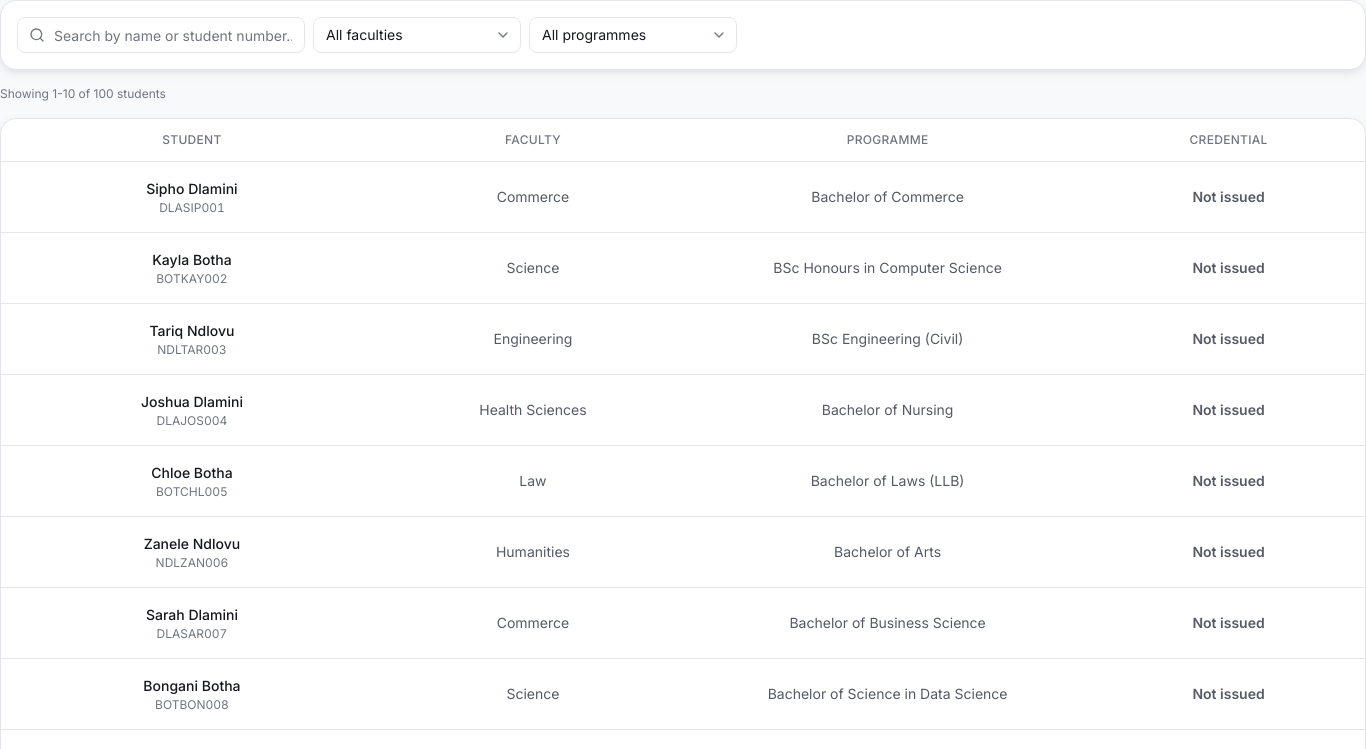
Scenario: IndividualIssuanceSearch › filters by full name and links to individual issuance detail
In the field with placeholder "Search by name or student number...": (161, 35) 17,17 -> 305,53, type "Joshua Wood"
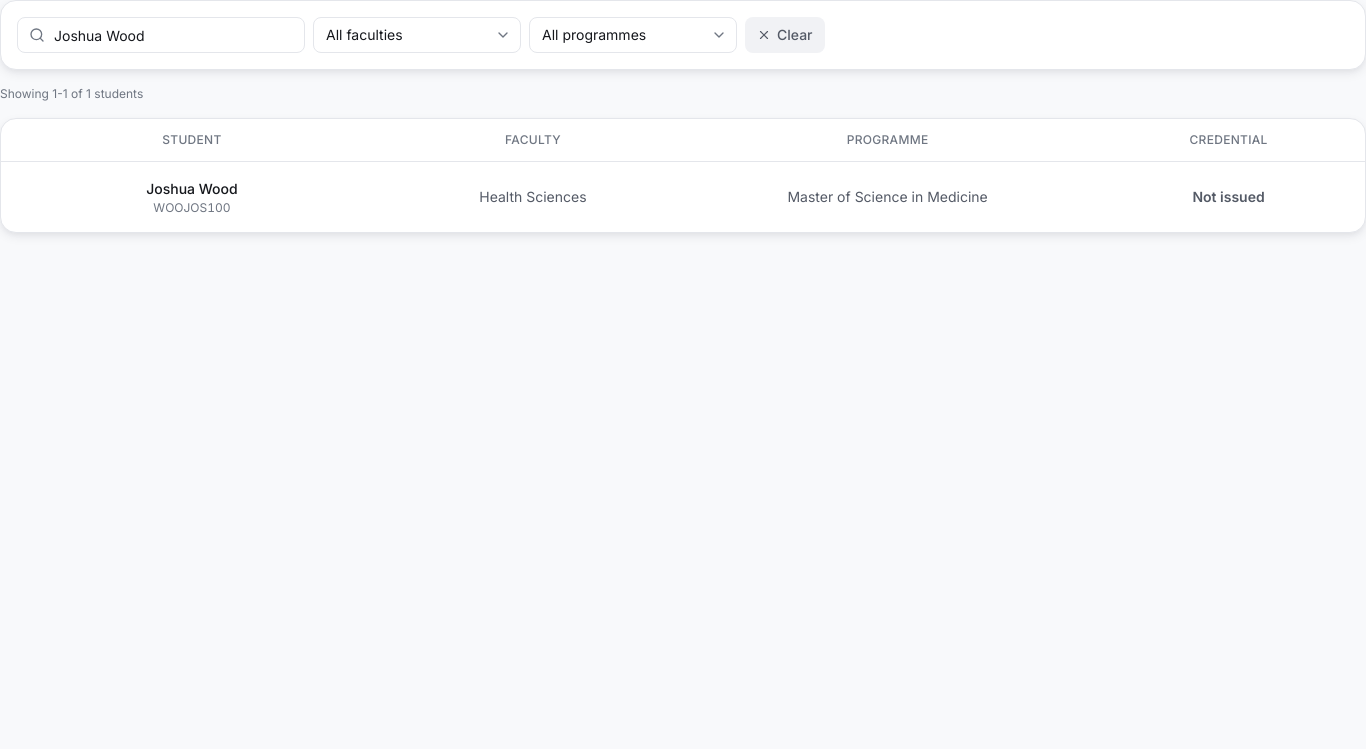
Now the text "Showing 1-1 of 1 students" is shown, box 0,86 -> 143,101
